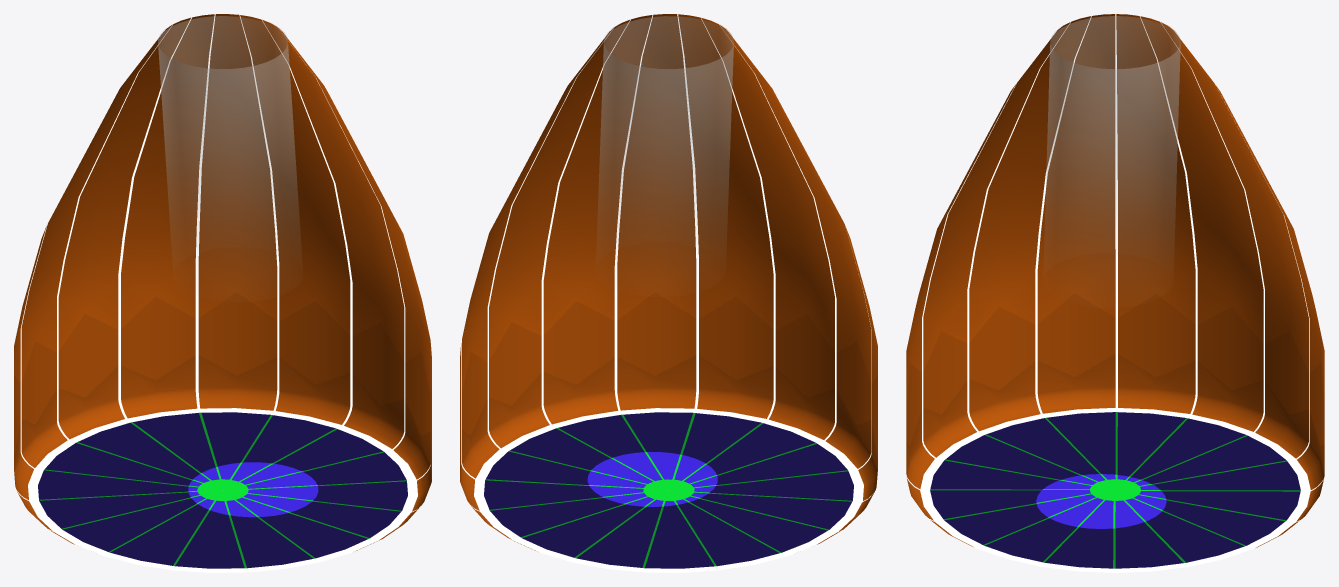
Rendered from troll_interior.glb.
3 renders of one model, left to right at view 1: azimuth 30°, elevation 25°; view 2: azimuth 150°, elevation 25°; view 3: azimuth 270°, elevation 25°, orthographic.
Visible parts, largest first — view 1: Cylinder, Light_Shaft, Ground_Light; view 2: Cylinder, Light_Shaft, Ground_Light; view 3: Cylinder, Light_Shaft, Ground_Light.
Boxes of the visible parts, box(x1,y1,x2,y2) form: Cylinder: box(14, 14, 431, 572); Light_Shaft: box(158, 16, 299, 234); Ground_Light: box(188, 462, 318, 517); Cylinder: box(460, 14, 877, 572); Light_Shaft: box(598, 16, 733, 230); Ground_Light: box(587, 452, 717, 506); Cylinder: box(906, 14, 1324, 572); Light_Shaft: box(1045, 16, 1180, 239); Ground_Light: box(1036, 474, 1166, 528).
Size of what is drawn, in the model's own units: 243 by 296 by 243.
Materials: 9 (1 with a texture image).
